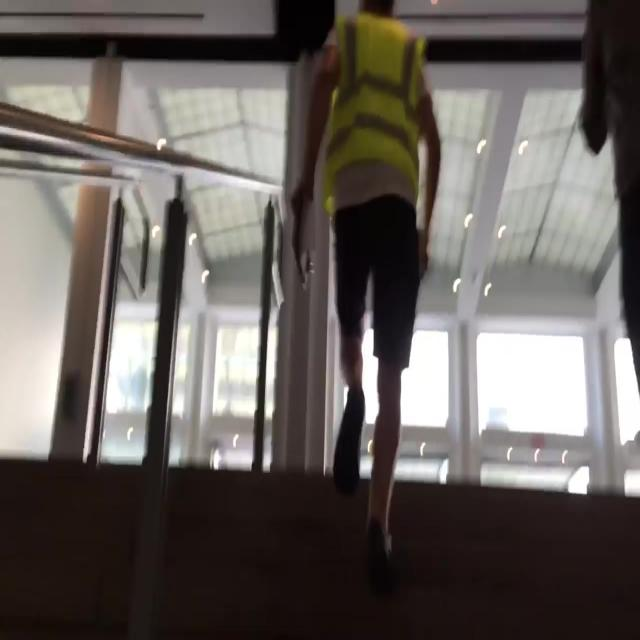Reflective-Jacket: (312, 12, 444, 230)
